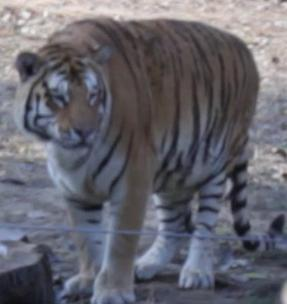tiger: (15, 17, 258, 303)
